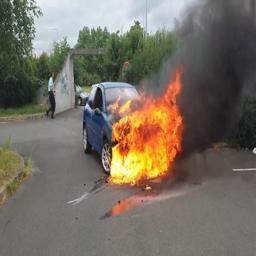fire: (107, 68, 185, 185)
